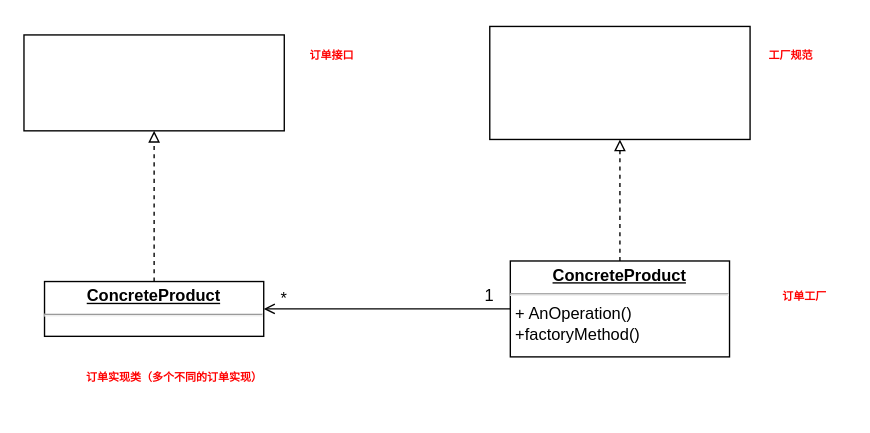
The diagram is 870 pixels wide and 433 high, and some of its shapes have lost their labels. Each missing label, with the centre of its shape:
<<Interface>> Creator + AnOperation() +factoryMethod(): point (619, 82)
<<Interface>> Product: point (153, 82)
